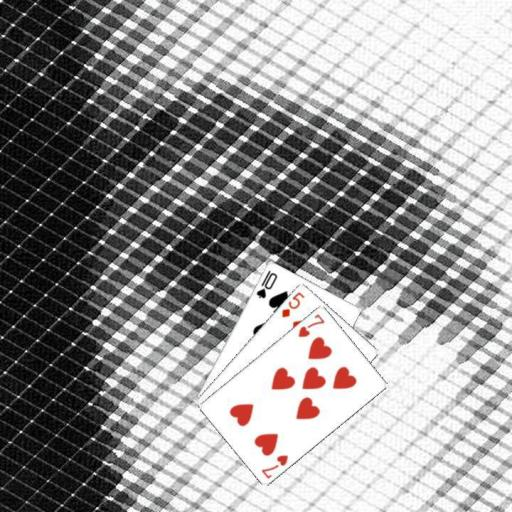card-corner: (295, 310, 327, 339), (258, 452, 290, 480), (278, 288, 306, 319), (253, 267, 279, 299)
